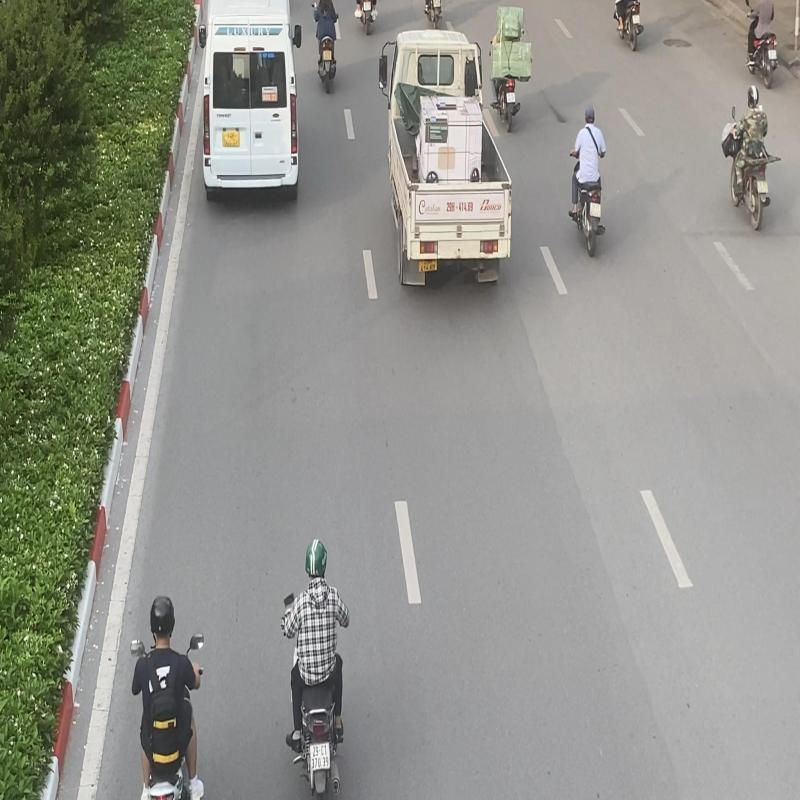helmet: (148, 594, 176, 641), (304, 538, 328, 579)
licenseplate: (309, 740, 331, 772)
motorcyclist: (278, 534, 354, 800)
